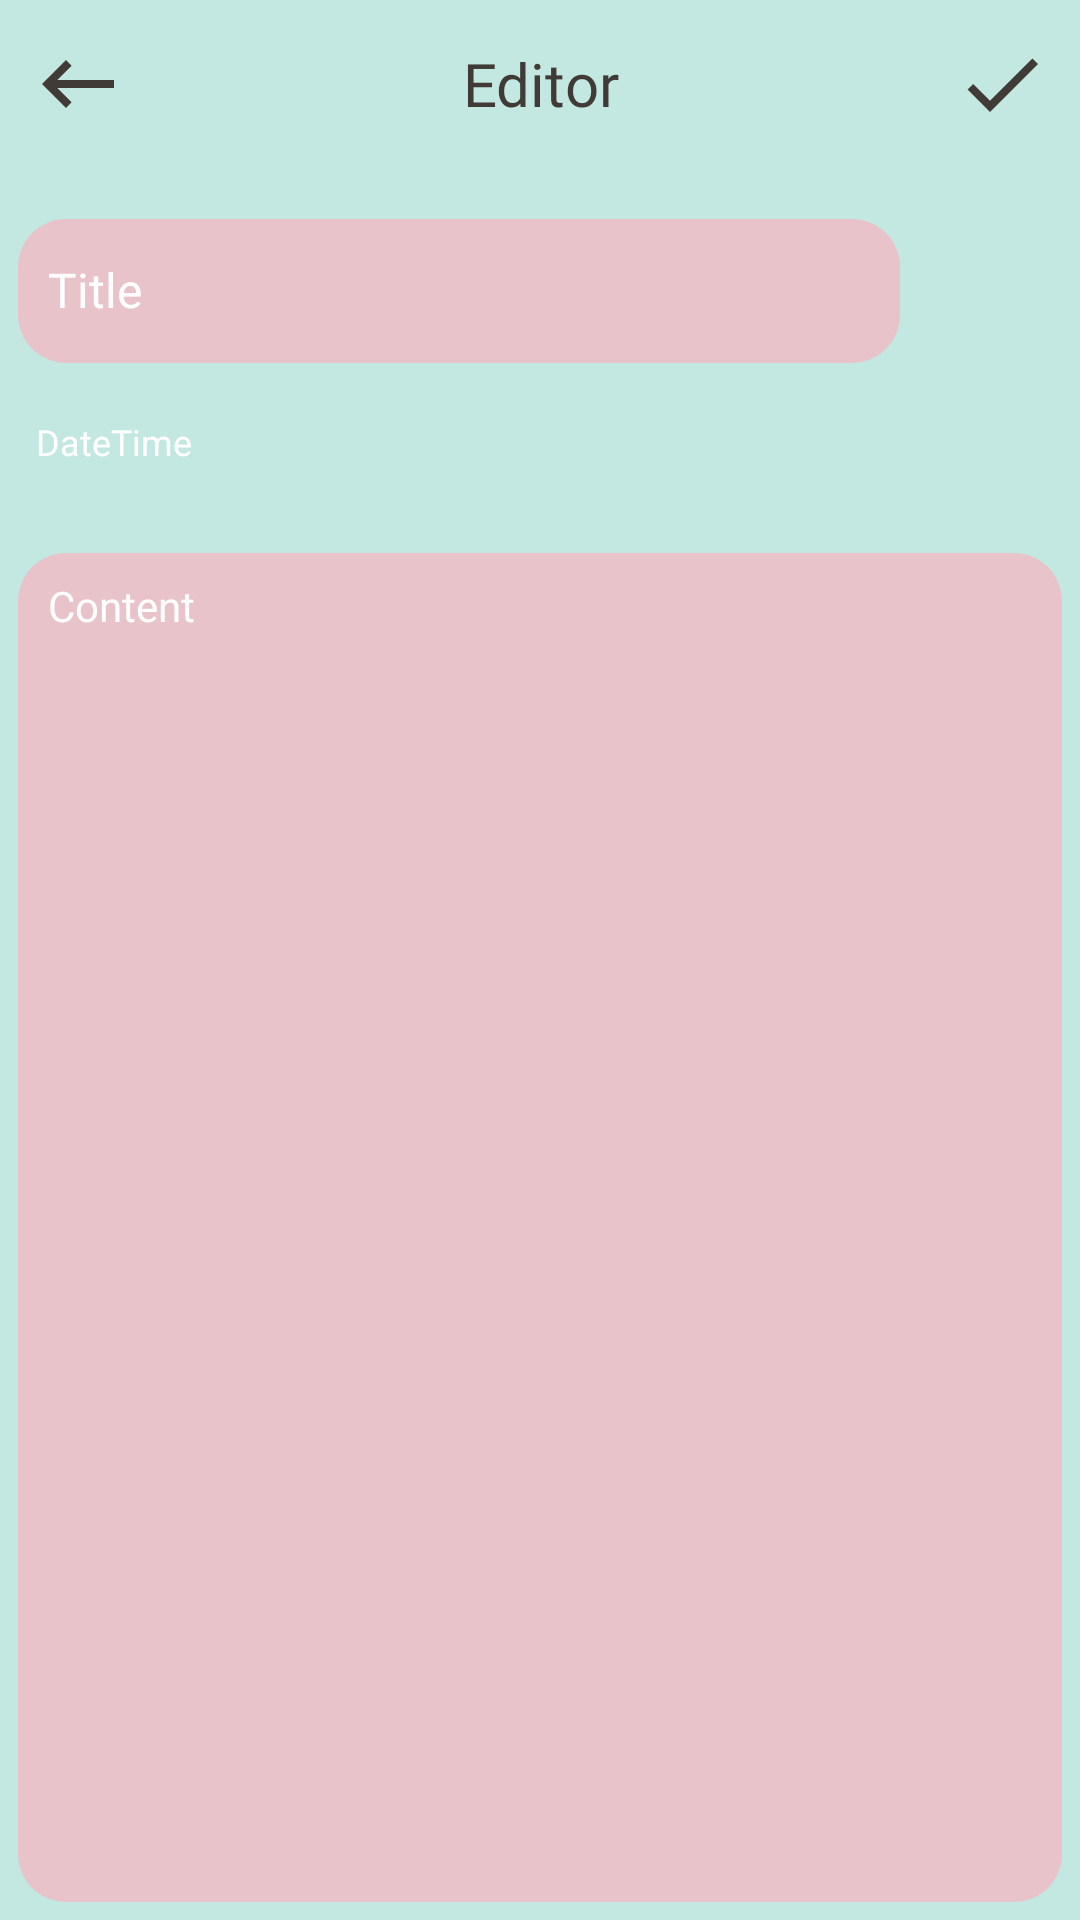

Where to tap for icons on this 1080px×1920px app screen, as (x,y):
back: (78,84)
done: (1002,85)
